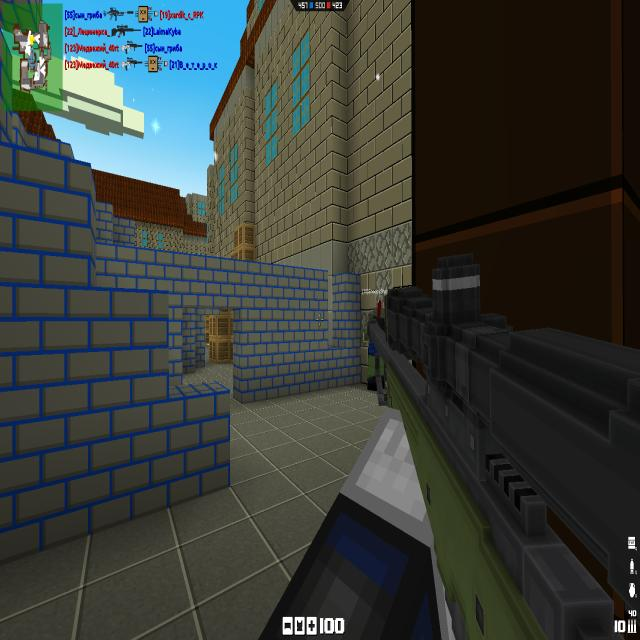player: (366, 296, 385, 392)
